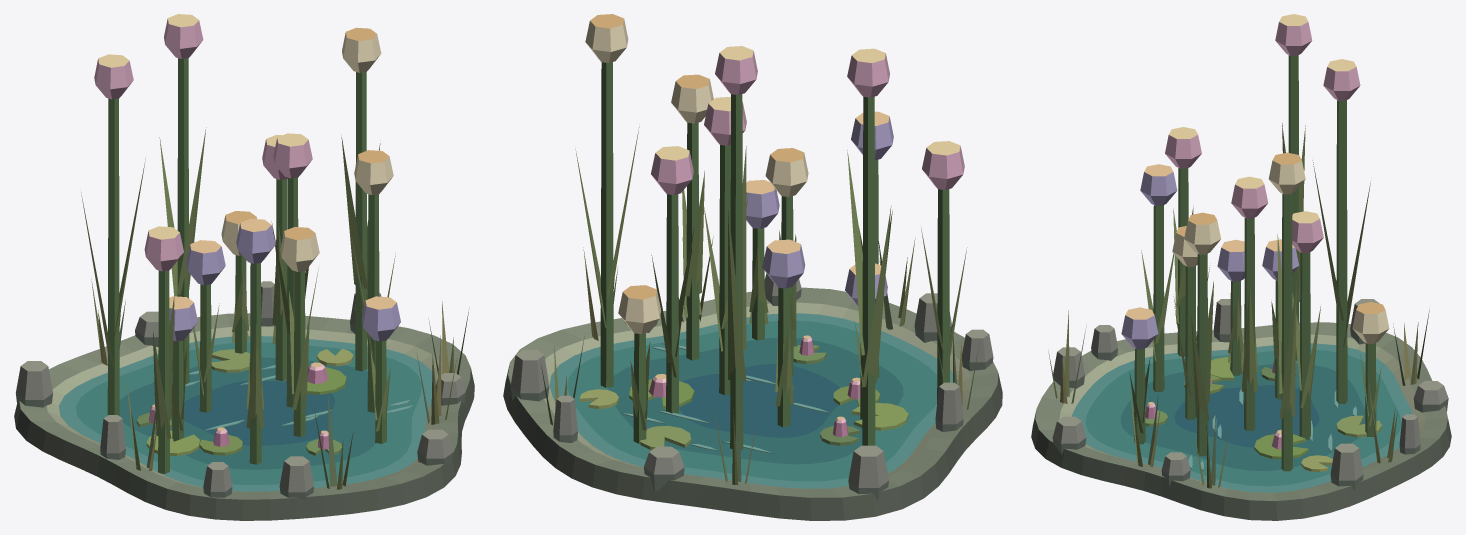
File: park-landscape.glb
3 renders of one model, left to right at view 1: azimuth 30°, elevation 25°; view 2: azimuth 150°, elevation 25°; view 3: azimuth 270°, elevation 25°, orthographic. The views are drawn at different scales.
Visible parts, largest first — view 1: LilyPond, Wildflowers; view 2: LilyPond, Wildflowers; view 3: LilyPond, Wildflowers.
Boxes of the visible parts, <box> form: LilyPond: <box>14,267,474,520</box>; Wildflowers: <box>81,14,400,473</box>; LilyPond: <box>503,236,1002,520</box>; Wildflowers: <box>575,14,967,449</box>; LilyPond: <box>1031,265,1451,520</box>; Wildflowers: <box>1121,14,1389,471</box>.
Size of the model in its own units: 0.9978 by 0.9042 by 0.9726.
